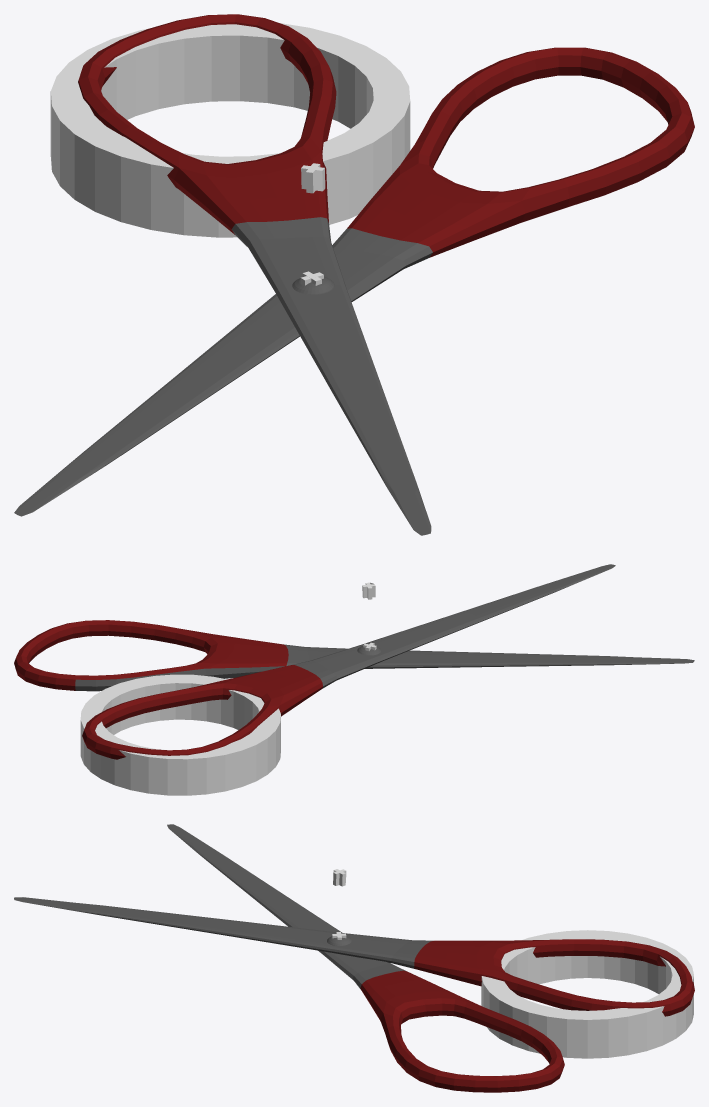
The model's file is makas.fbx.
3 views of the same model, one above another, from view 1: azimuth 30°, elevation 25°; view 2: azimuth 150°, elevation 25°; view 3: azimuth 270°, elevation 25° (orthographic). The views are drawn at different scales.
Parts seen in each view (by area): view 1: Cylinder, Plane.001, Plane; view 2: Cylinder, Plane.001, Plane; view 3: Plane, Cylinder, Plane.001.
Boxes of the visible parts, box(x1,y1,x2,y2) form: Cylinder: box(50, 23, 410, 237); Plane.001: box(14, 47, 694, 516); Plane: box(78, 14, 431, 535); Cylinder: box(80, 674, 280, 795); Plane.001: box(14, 620, 694, 691); Plane: box(82, 564, 615, 759); Plane: box(14, 897, 694, 1016); Cylinder: box(481, 930, 693, 1058); Plane.001: box(167, 824, 564, 1092).
Bounding box in the file's own units: 591 × 110 × 640.
